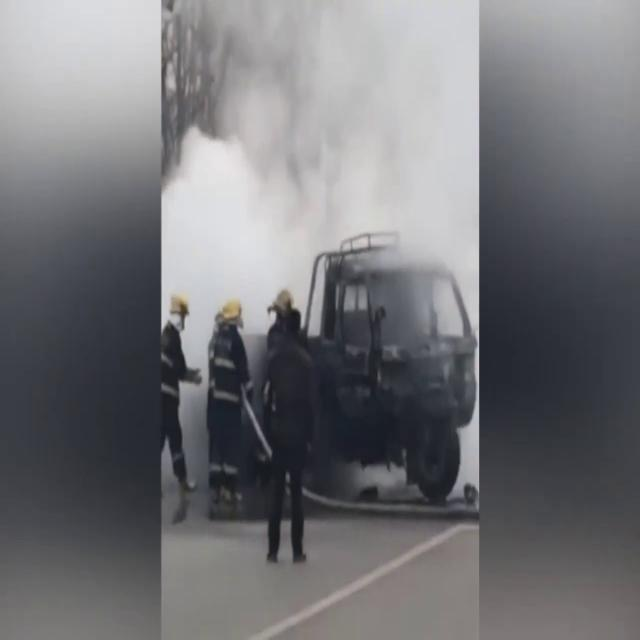Smoke: (162, 0, 476, 298)
